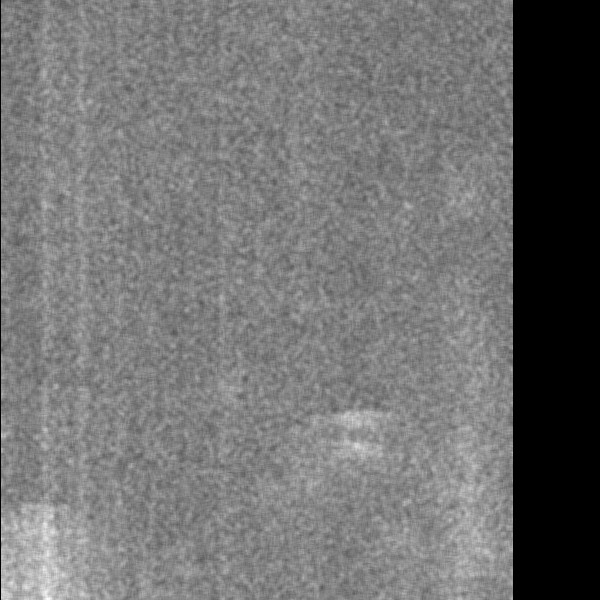spark: (343, 405, 375, 475)
